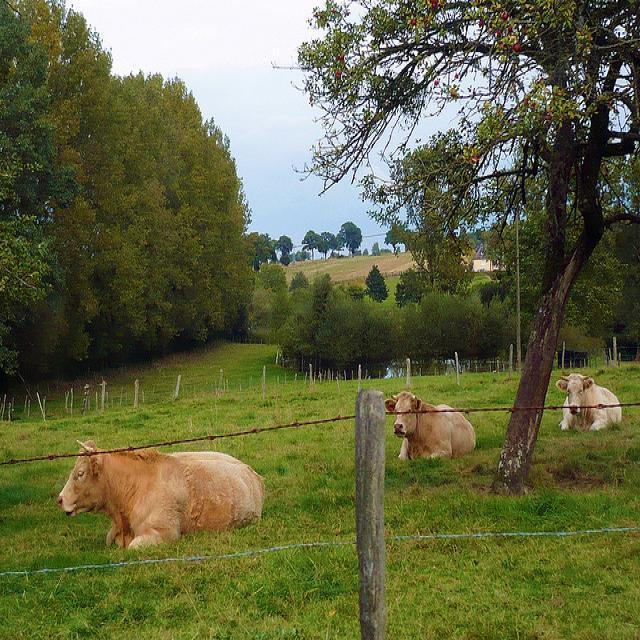cow: (56, 437, 264, 548), (384, 388, 477, 460), (554, 371, 621, 428)
